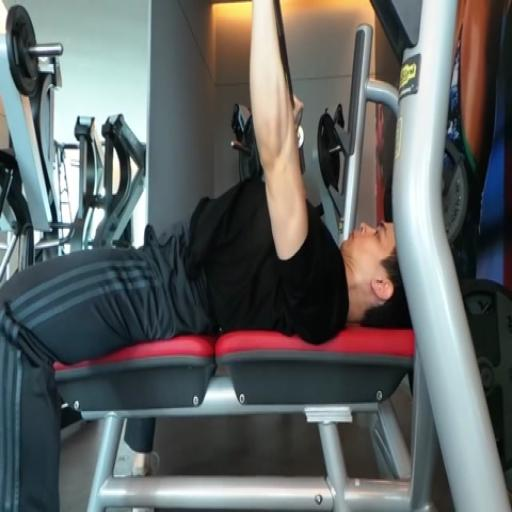exercise: (0, 0, 413, 511)
